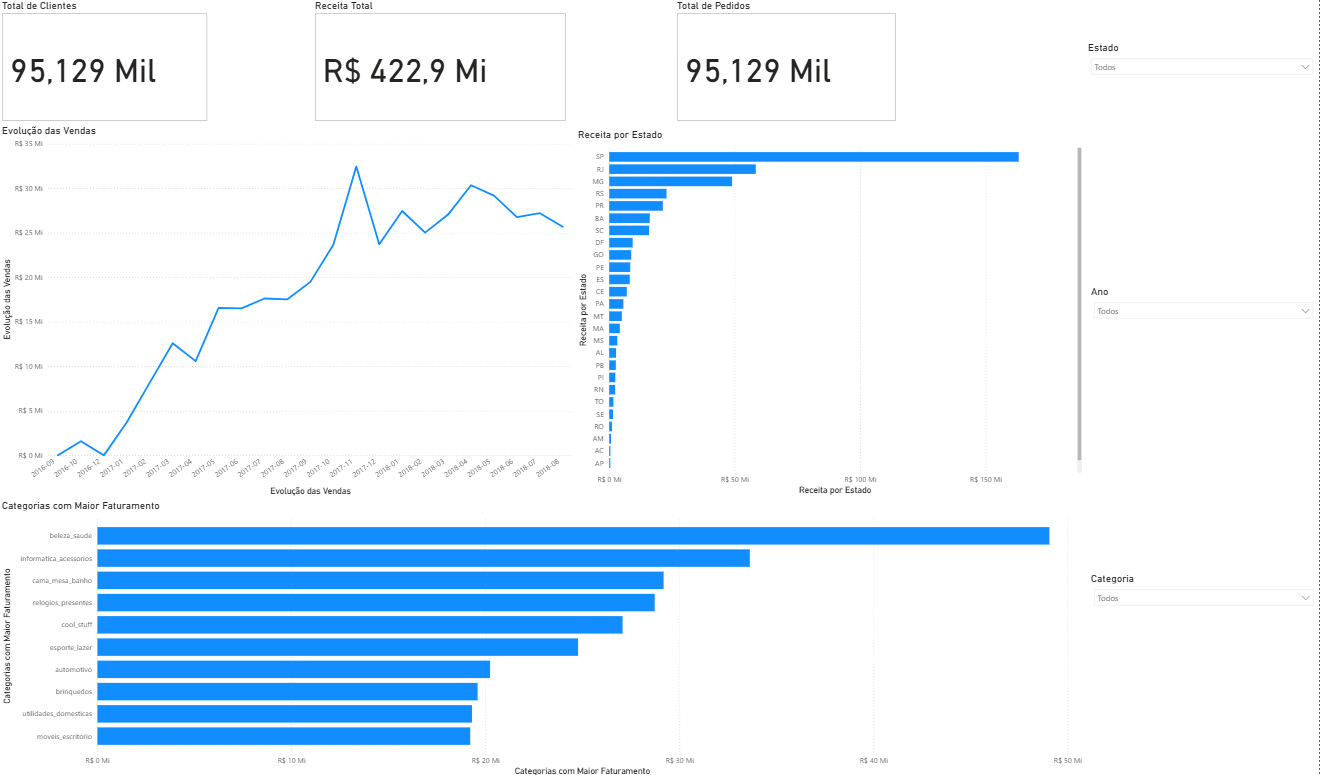

This screenshot's page, from the dashboard's own definition file:
{"tool":"powerbi","page":{"name":"Página 1","canvas":[2200,1300],"ordinal":0},"visuals":[{"type":"cardVisual","title":"Receita Total","fields":{"Data":["Sum(dados_tratados.price)"]},"box":[521.4,0,428.6,208.6],"z":0},{"type":"cardVisual","title":"Total de Pedidos","fields":{"Data":["Count(dados_tratados.order_id)"]},"box":[1124.3,0,375.7,208.6],"z":1000},{"type":"cardVisual","title":"Total de Clientes","fields":{"Data":["Count(dados_tratados.customer_id)"]},"box":[0,0,352.9,208.8],"z":2000},{"type":"lineChart","title":"Evolução das Vendas","fields":{"Y":["Sum(dados_tratados.price)"],"Category":["dados_tratados.AnoMes"]},"box":[0,208.6,960,624.3],"z":3000},{"type":"clusteredBarChart","title":"Receita por Estado","fields":{"Y":["Sum(dados_tratados.price)"],"Category":["dados_tratados.customer_state"]},"box":[960,215.7,850,617.1],"z":4000},{"type":"clusteredBarChart","title":"Categorias com Maior Faturamento","fields":{"Category":["dados_tratados.product_category_name"],"Y":["Sum(dados_tratados.price)"]},"box":[0,832.9,1810,467.1],"z":5000},{"type":"slicer","title":"Estado","fields":{"Values":["dados_tratados.customer_state"]},"box":[1810,70,390,335],"z":6000},{"type":"slicer","title":"Categoria","fields":{"Values":["dados_tratados.product_category_name"]},"box":[1814.3,954.3,385.7,345.7],"z":7000},{"type":"slicer","title":"Ano","fields":{"Values":["dados_tratados.ano"]},"box":[1815,476.7,385,346.7],"z":8000}]}

Visuals, with their boxes in screenshot pixels (x1, y1, x2, y2), scaled from the page's 2200x1300 canvas onto the 1320x775 screenshot:
"Receita Total" cardVisual: {"x1": 313, "y1": 0, "x2": 570, "y2": 124}
"Total de Pedidos" cardVisual: {"x1": 675, "y1": 0, "x2": 900, "y2": 124}
"Total de Clientes" cardVisual: {"x1": 0, "y1": 0, "x2": 212, "y2": 124}
"Evolução das Vendas" lineChart: {"x1": 0, "y1": 124, "x2": 576, "y2": 497}
"Receita por Estado" clusteredBarChart: {"x1": 576, "y1": 129, "x2": 1086, "y2": 496}
"Categorias com Maior Faturamento" clusteredBarChart: {"x1": 0, "y1": 497, "x2": 1086, "y2": 774}
"Estado" slicer: {"x1": 1086, "y1": 42, "x2": 1319, "y2": 241}
"Categoria" slicer: {"x1": 1089, "y1": 569, "x2": 1319, "y2": 774}
"Ano" slicer: {"x1": 1089, "y1": 284, "x2": 1319, "y2": 491}
